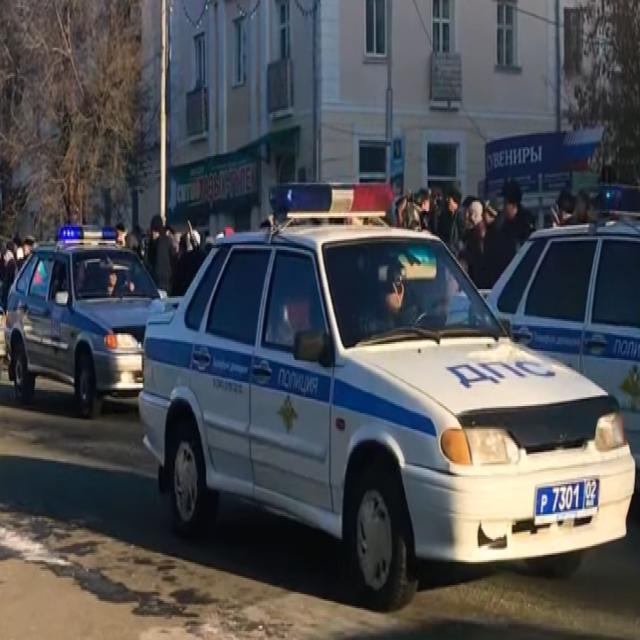police car: (142, 171, 637, 593), (489, 181, 640, 465), (8, 221, 163, 421)
